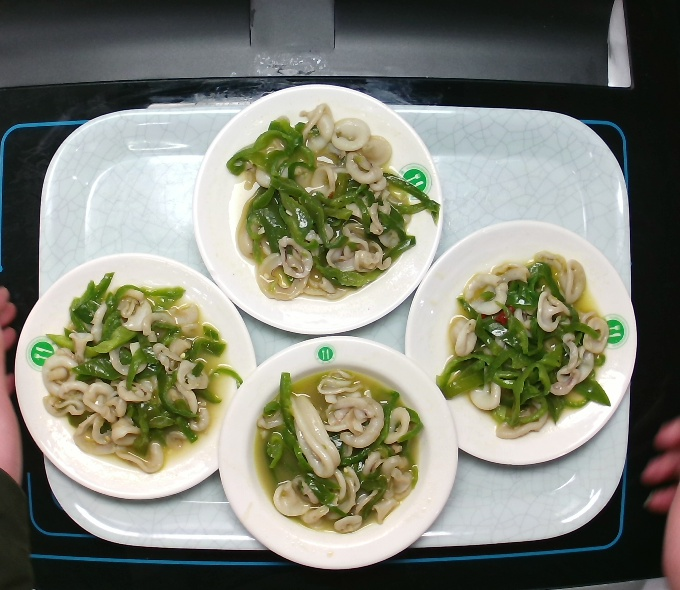wcq-QingJiaoYouYu: (35, 272, 246, 480), (231, 106, 438, 306), (440, 248, 619, 437), (249, 358, 427, 535)
